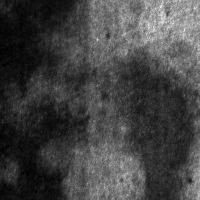patches: (108, 58, 195, 200), (1, 1, 74, 96), (1, 103, 70, 200), (0, 0, 85, 66)
